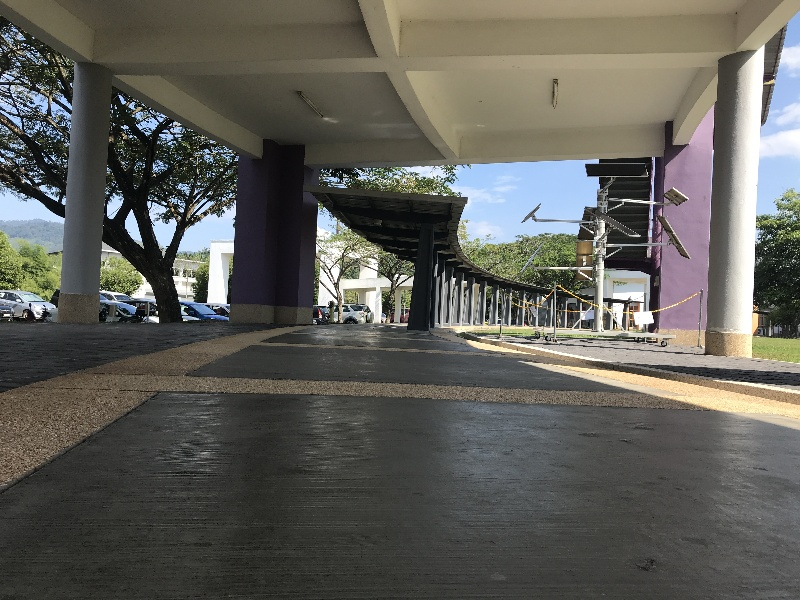pillar: (225, 126, 321, 337), (704, 50, 758, 371), (653, 101, 707, 362), (66, 56, 104, 326), (408, 209, 440, 341)
